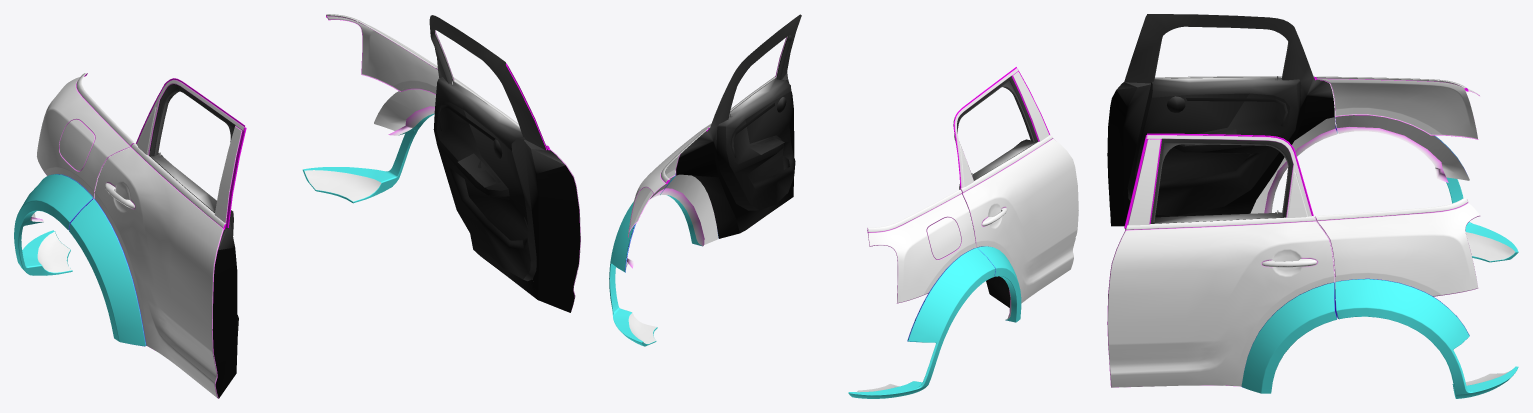
File: Car_Mini_CountrymanJCW_2017_FendersR_SetB.fbx
The picture shows the model from 3 angles, left to right: view 1: azimuth 30°, elevation 25°; view 2: azimuth 150°, elevation 25°; view 3: azimuth 270°, elevation 25°; orthographic projection. The views are drawn at different scales.
Visible parts, largest first — view 1: FendersR 6; view 2: FendersR 6; view 3: FendersR 6.
Boxes of the visible parts, x1,y1,x2,y2 form: FendersR 6: [14, 14, 580, 398]; FendersR 6: [609, 14, 1078, 398]; FendersR 6: [1107, 14, 1518, 398].
Bounding box in the file's own units: 1.99 × 1.21 × 1.83.
